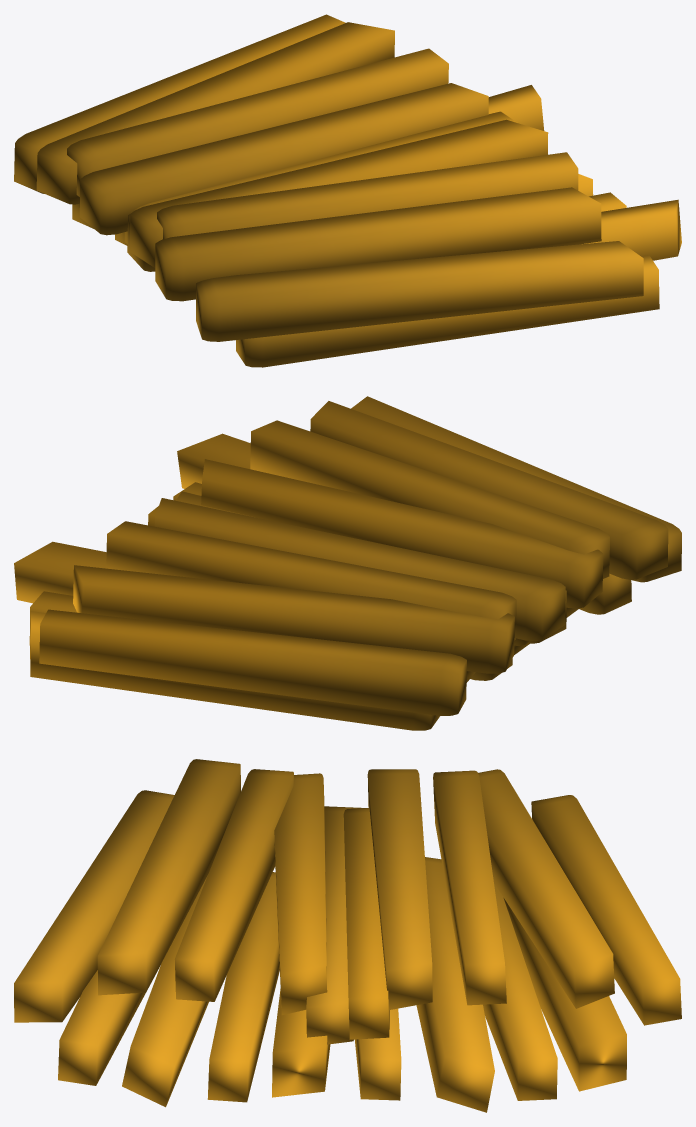
Rendered from Patatos.fbx.
The picture shows the model from 3 angles, top to bottom: view 1: azimuth 30°, elevation 25°; view 2: azimuth 150°, elevation 25°; view 3: azimuth 270°, elevation 25°; orthographic projection. The views are drawn at different scales.
Visible parts, largest first — view 1: FrenchFries; view 2: FrenchFries; view 3: FrenchFries.
Boxes of the visible parts, x1,y1,x2,y2 form: FrenchFries: [14, 14, 681, 367]; FrenchFries: [14, 396, 681, 730]; FrenchFries: [14, 759, 681, 1112].
Bounding box in the file's own units: 0.2605 × 0.0568 × 0.2853.
